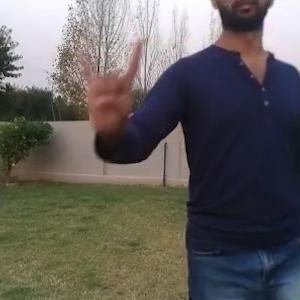takeoff-hand: (70, 31, 145, 139)
